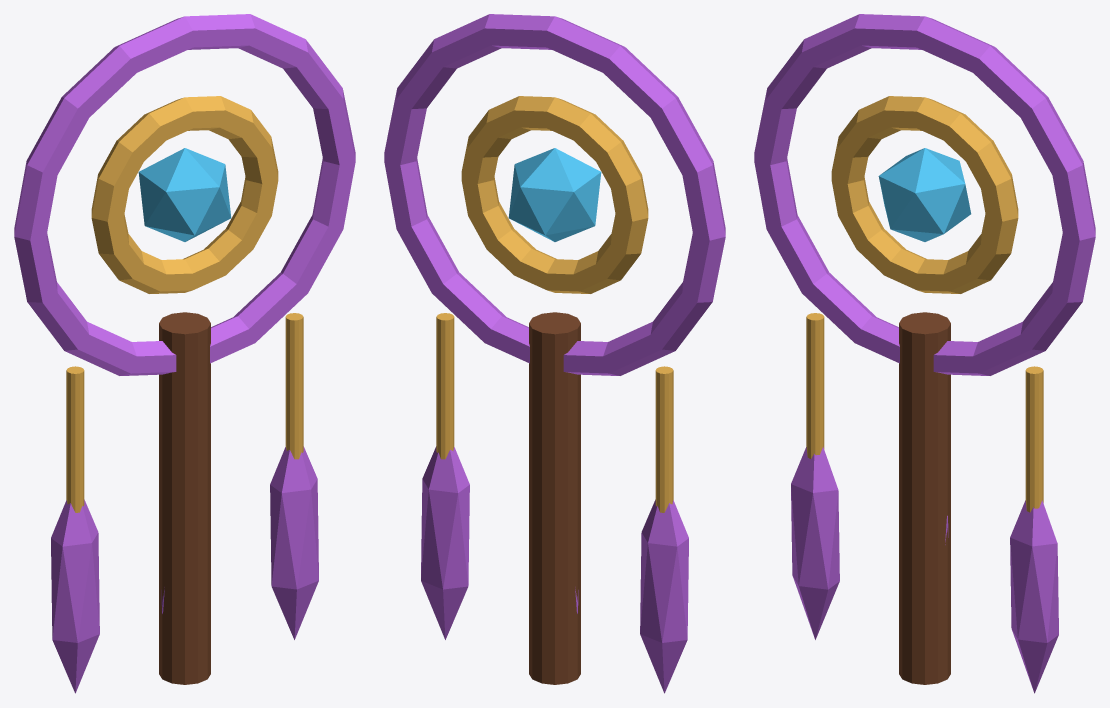
File: dream-catcher-1.glb
3 views of the same model, side by side, from view 1: azimuth 30°, elevation 25°; view 2: azimuth 150°, elevation 25°; view 3: azimuth 330°, elevation 25° (orthographic).
Visible parts, largest first — view 1: Torus.007, Cylinder, Torus.008, Icosphere.001, Icosphere.003, Icosphere, Cylinder.001, Cylinder.003; view 2: Torus.007, Cylinder, Torus.008, Icosphere.001, Icosphere.003, Icosphere, Cylinder.001, Cylinder.003; view 3: Torus.007, Cylinder, Torus.008, Icosphere.003, Icosphere.001, Icosphere, Cylinder.003, Cylinder.001.
Boxes of the visible parts, x1,y1,x2,y2 form: Torus.007: (14, 14, 355, 375); Cylinder: (159, 312, 210, 684); Torus.008: (91, 96, 278, 293); Icosphere.001: (51, 499, 99, 693); Icosphere.003: (270, 446, 318, 639); Icosphere: (138, 148, 231, 241); Cylinder.001: (66, 366, 84, 512); Cylinder.003: (285, 313, 303, 459); Torus.007: (384, 14, 725, 375); Cylinder: (529, 312, 580, 684); Torus.008: (461, 96, 648, 293); Icosphere.001: (640, 499, 688, 693); Icosphere.003: (421, 446, 469, 639); Icosphere: (508, 148, 601, 241); Cylinder.001: (655, 366, 673, 512); Cylinder.003: (436, 313, 454, 459); Torus.007: (754, 14, 1095, 375); Cylinder: (899, 312, 950, 684); Torus.008: (831, 96, 1018, 293); Icosphere.003: (1010, 500, 1058, 693); Icosphere.001: (791, 447, 839, 639); Icosphere: (878, 148, 971, 241); Cylinder.003: (1025, 366, 1043, 512); Cylinder.001: (806, 313, 824, 458).
Size of the model in its own units: 0.53 by 0.975 by 0.1191.
